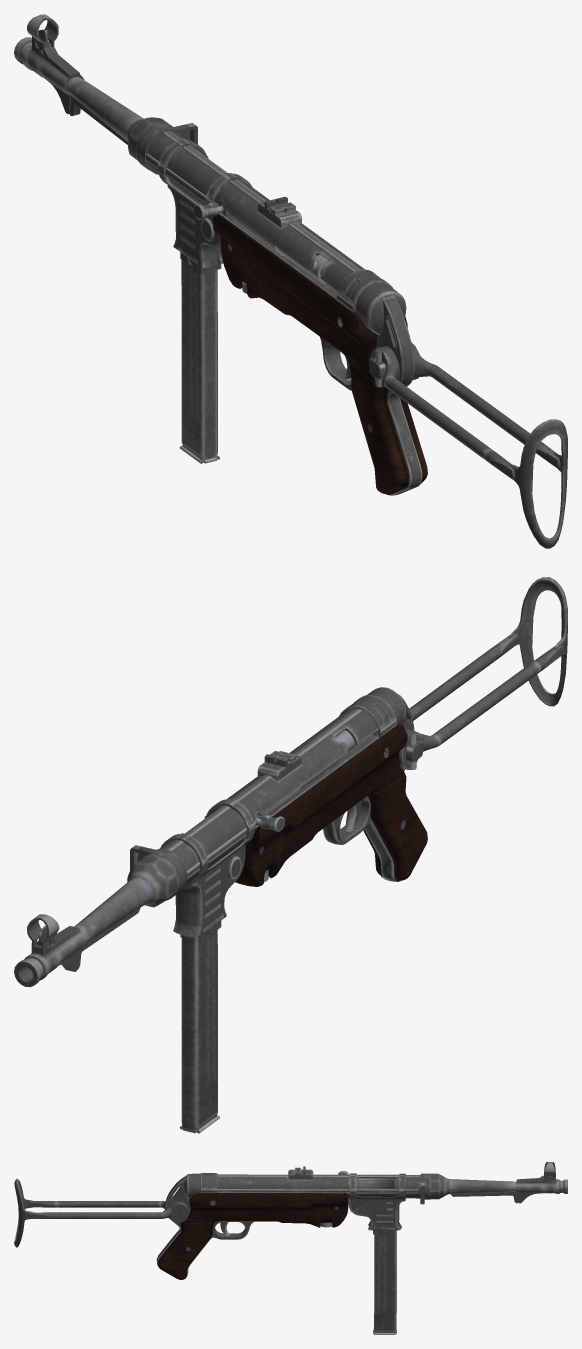
Rendered from gun_smg.glb.
3 renders of one model, top to bottom at view 1: azimuth 30°, elevation 25°; view 2: azimuth 150°, elevation 25°; view 3: azimuth 270°, elevation 25°, orthographic. The views are drawn at different scales.
Visible parts, largest first — view 1: prefab; view 2: prefab; view 3: prefab.
Part boxes in pixels (x1,y1,x2,y2): prefab: (14, 14, 567, 548); prefab: (14, 577, 567, 1133); prefab: (14, 1162, 567, 1334).
Size of the model in its own units: 0.0675 by 0.2809 by 0.83.
Materials: 1 (1 with a texture image).
